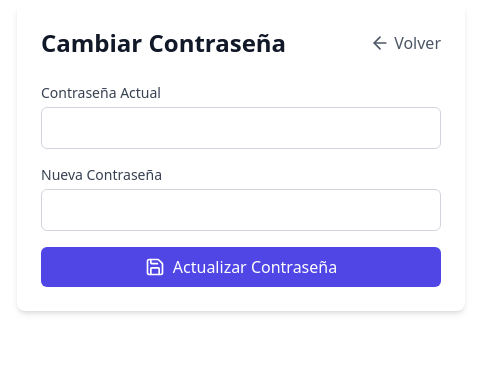
it: ChangePasswordPage › submits form successfully
The width and height of the screenshot is (483, 392).
Step 1. Type "oldPass" into the 1st password field named "currentPassword" → coordinates (241, 128), box [41, 107, 441, 149]
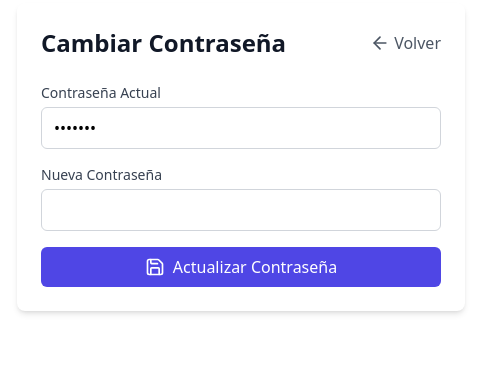
Step 2. Type "newPass" into the password field named "newPassword" below "Nueva Contraseña" → coordinates (241, 210), box [41, 189, 441, 231]
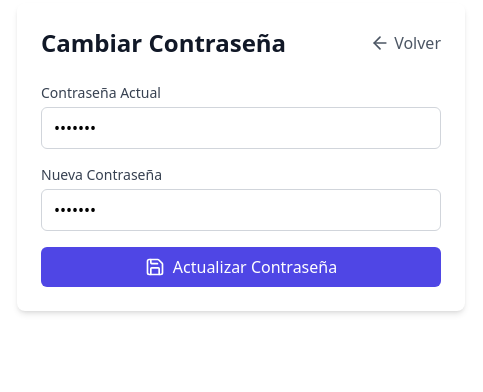
Step 3. Click the button "Actualizar Contraseña" → coordinates (241, 267), box [41, 247, 441, 287]
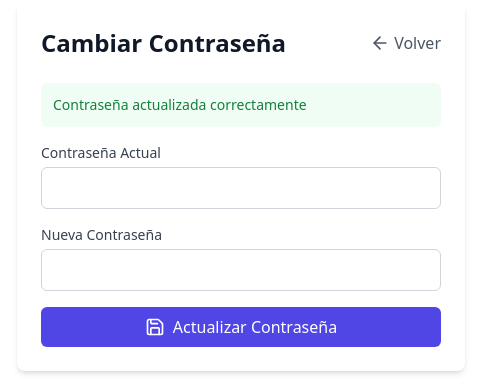
Check: the text "Contraseña actualizada correctamente" is shown, box [41, 83, 441, 127]
